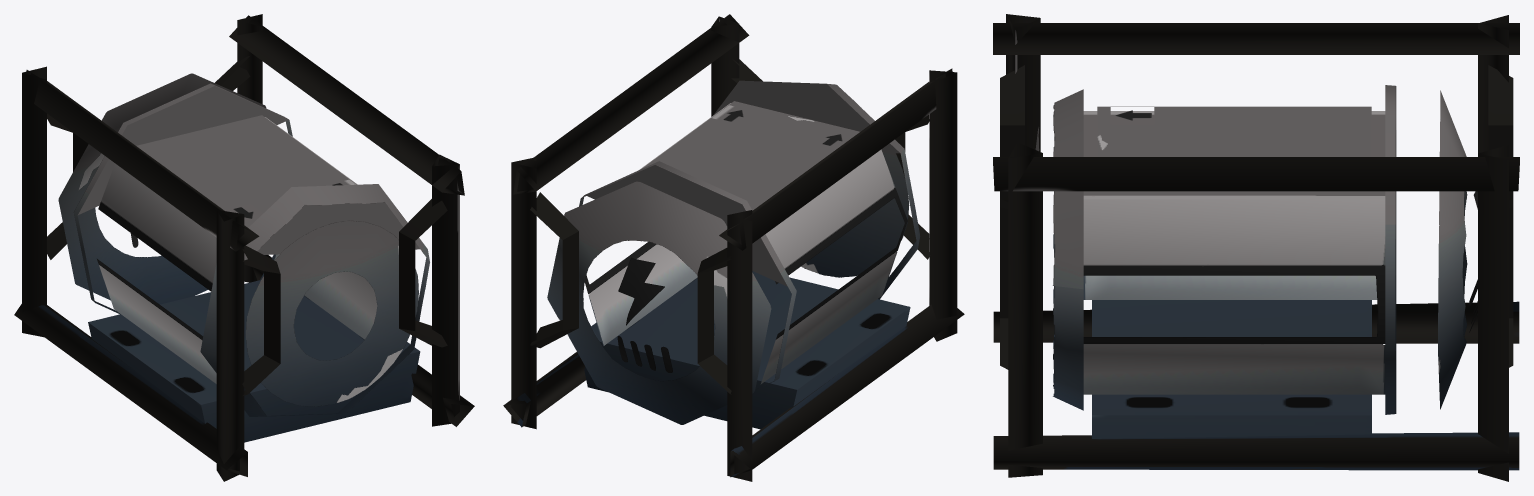
The model's file is obj_interactive_electricengine_02_lod1.fbx.
3 renders of one model, left to right at view 1: azimuth 30°, elevation 25°; view 2: azimuth 150°, elevation 25°; view 3: azimuth 270°, elevation 25°, orthographic. The views are drawn at different scales.
Parts seen in each view (by area): view 1: polySurface11; view 2: polySurface11; view 3: polySurface11.
Boxes of the visible parts, left/top/right/bottom form: polySurface11: left=14, top=14, right=474, bottom=481; polySurface11: left=503, top=14, right=964, bottom=481; polySurface11: left=993, top=14, right=1519, bottom=481.
Size of the model in its own units: 2.05 by 2.05 by 3.04.
